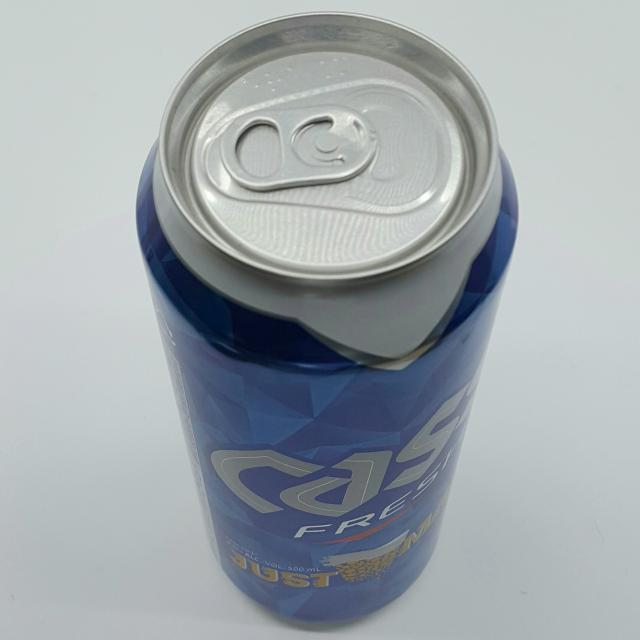beer-can: (136, 11, 518, 623)
